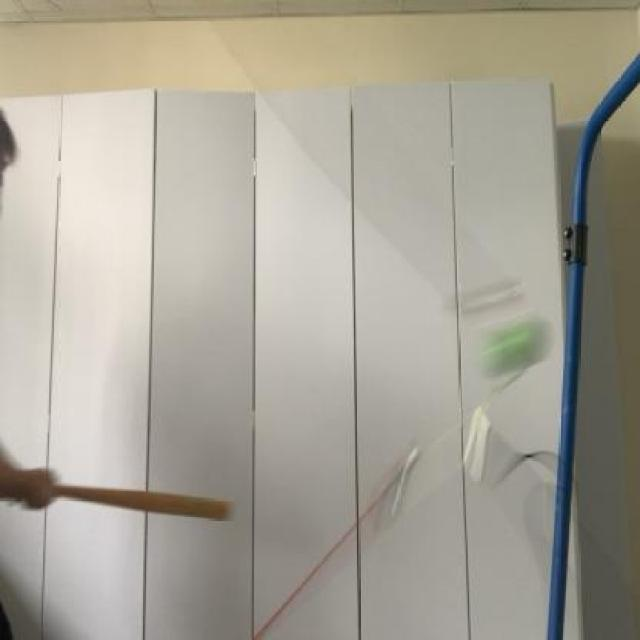baseball: (471, 299, 563, 398)
